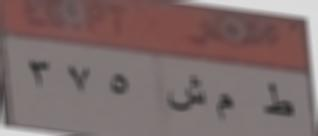3: (27, 54, 54, 93)
5: (106, 66, 136, 107)
7: (65, 60, 94, 96)
Taa: (263, 78, 296, 122)
meem: (215, 91, 236, 126)
sheen: (165, 72, 208, 121)
